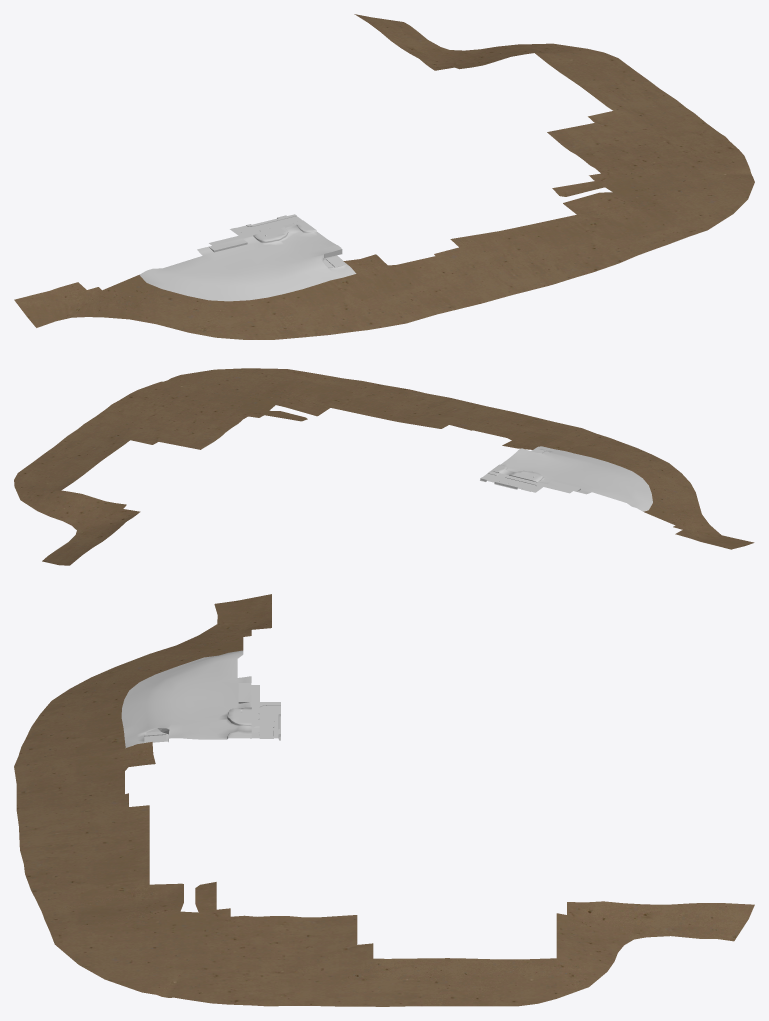
The model's file is sand_beach.fbx.
3 renders of one model, top to bottom at view 1: azimuth 30°, elevation 25°; view 2: azimuth 150°, elevation 25°; view 3: azimuth 270°, elevation 25°, orthographic. The views are drawn at different scales.
Visible parts, largest first — view 1: Bg_Seaside_01_Harbor, Bg_Seaside_01_Sandy_Beach, Sandy_Beach_STR_Base, Bg_Seaside_01_Uptown, Bg_Seaside_01_Hospital; view 2: Bg_Seaside_01_Harbor, Bg_Seaside_01_Sandy_Beach, Sandy_Beach_STR_Base, Bg_Seaside_01_Hospital, Bg_Seaside_01_Uptown; view 3: Bg_Seaside_01_Harbor, Bg_Seaside_01_Sandy_Beach, Bg_Seaside_01_Uptown, Sandy_Beach_STR_Base, Bg_Seaside_01_Hospital.
Part boxes in pixels (x1,y1,x2,y2): Bg_Seaside_01_Harbor: (499,49,754,284); Bg_Seaside_01_Sandy_Beach: (14,274,405,339); Sandy_Beach_STR_Base: (139,214,356,301); Bg_Seaside_01_Uptown: (343,231,551,323); Bg_Seaside_01_Hospital: (354,14,587,70); Bg_Seaside_01_Harbor: (14,368,448,490); Bg_Seaside_01_Sandy_Beach: (542,428,754,549); Sandy_Beach_STR_Base: (480,446,652,511); Bg_Seaside_01_Hospital: (14,487,140,565); Bg_Seaside_01_Uptown: (399,397,581,449); Bg_Seaside_01_Harbor: (20,837,556,1006); Bg_Seaside_01_Sandy_Beach: (14,594,271,766); Bg_Seaside_01_Uptown: (14,742,155,850); Sandy_Beach_STR_Base: (121,650,280,747); Bg_Seaside_01_Hospital: (556,901,754,998).
Bounding box in the file's own units: 40168 × 1479 × 31112.
